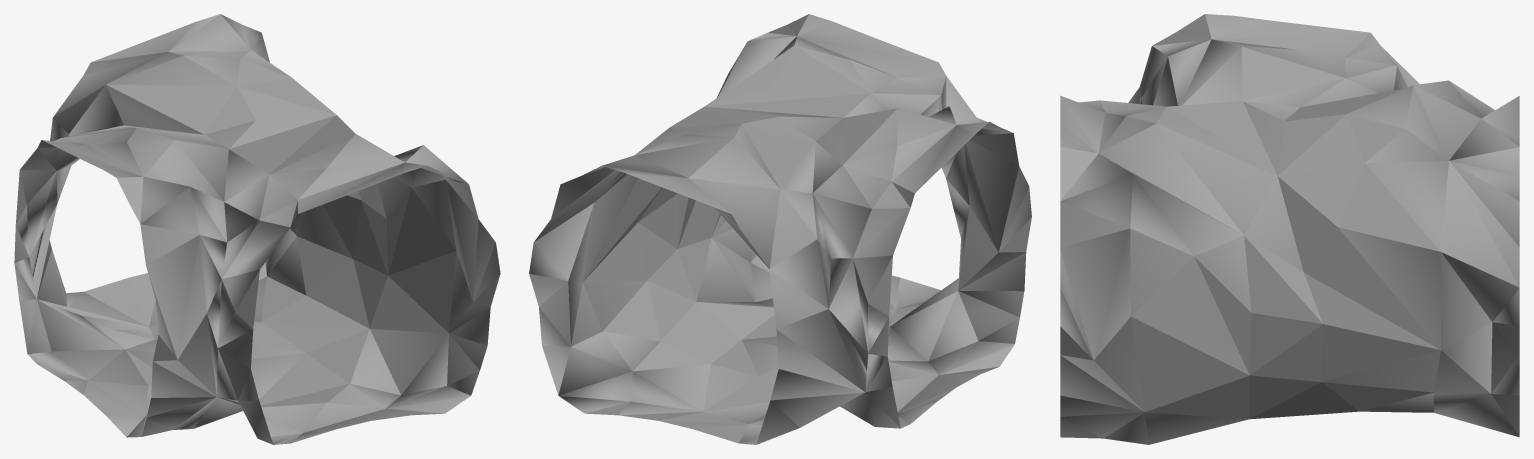
File: THorizontal1Connector.fbx
The picture shows the model from 3 angles, left to right: view 1: azimuth 30°, elevation 25°; view 2: azimuth 150°, elevation 25°; view 3: azimuth 270°, elevation 25°; orthographic projection. The views are drawn at different scales.
Visible parts, largest first — view 1: THorizontal1Connector; view 2: THorizontal1Connector; view 3: THorizontal1Connector.
Part boxes in pixels (box(x1,y1,x2,y2)): THorizontal1Connector: box(14, 14, 500, 444); THorizontal1Connector: box(529, 14, 1031, 444); THorizontal1Connector: box(1060, 14, 1519, 444).
Bounding box in the file's own units: 444 × 368 × 500.
